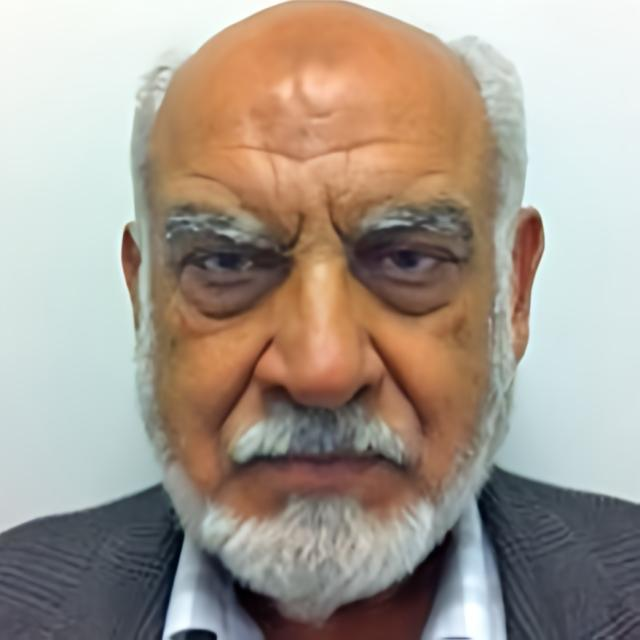anger: (149, 56, 496, 588)
